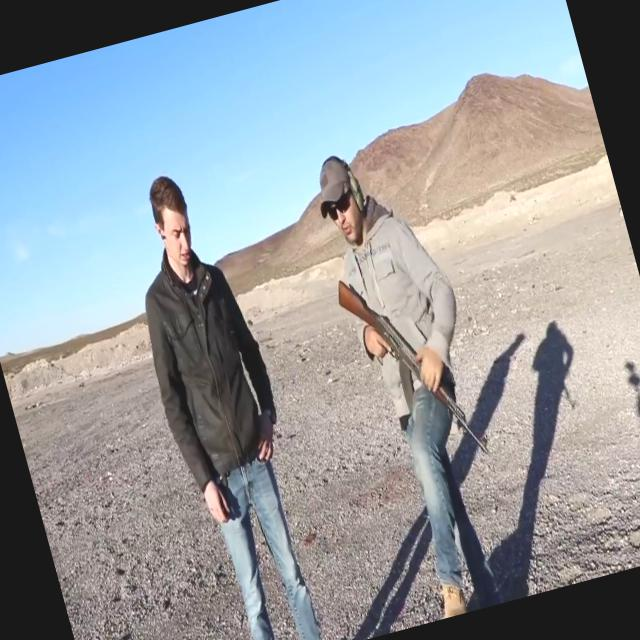long weapon: (331, 248, 499, 480)
